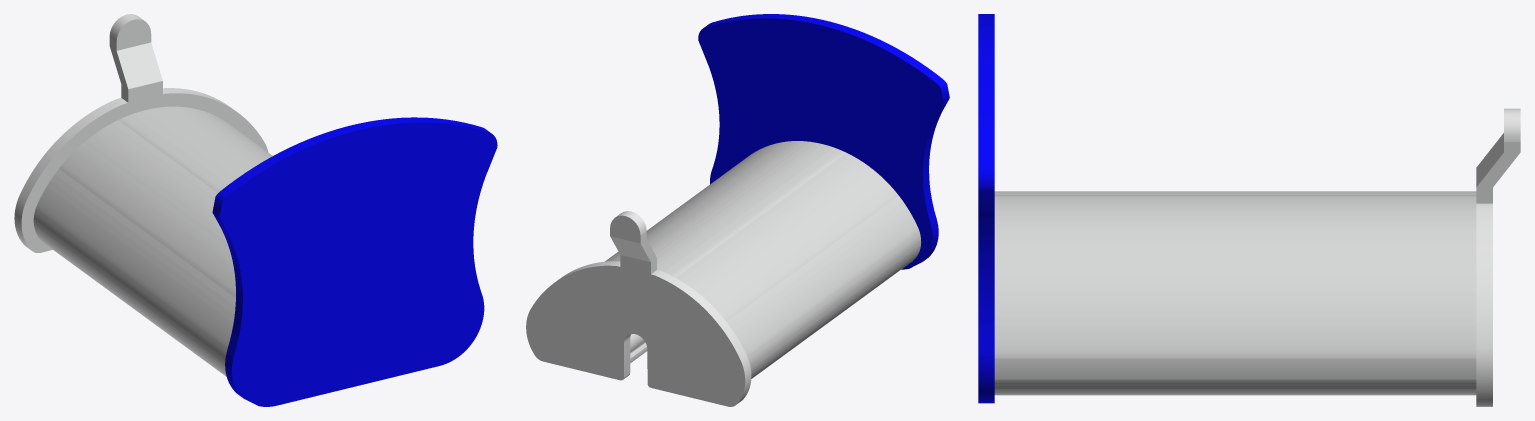
File: EZR_MDL-L87-NT.glb
3 views of the same model, side by side, from view 1: azimuth 30°, elevation 25°; view 2: azimuth 150°, elevation 25°; view 3: azimuth 270°, elevation 25° (orthographic). The views are drawn at different scales.
Parts seen in each view (by area): view 1: Geom3D, Geom3D_ (×3); view 2: Geom3D_ (×3), Geom3D; view 3: Geom3D_ (×3), Geom3D.
Boxes of the visible parts, left/top/right/bottom form: Geom3D: left=212, top=117, right=497, bottom=406; Geom3D_ (×3): left=14, top=14, right=272, bottom=376; Geom3D_ (×3): left=526, top=141, right=921, bottom=406; Geom3D: left=698, top=14, right=949, bottom=269; Geom3D_ (×3): left=994, top=108, right=1520, bottom=406; Geom3D: left=978, top=14, right=994, bottom=403.
Size of the model in its own units: 0.0684 by 0.06 by 0.0979.
